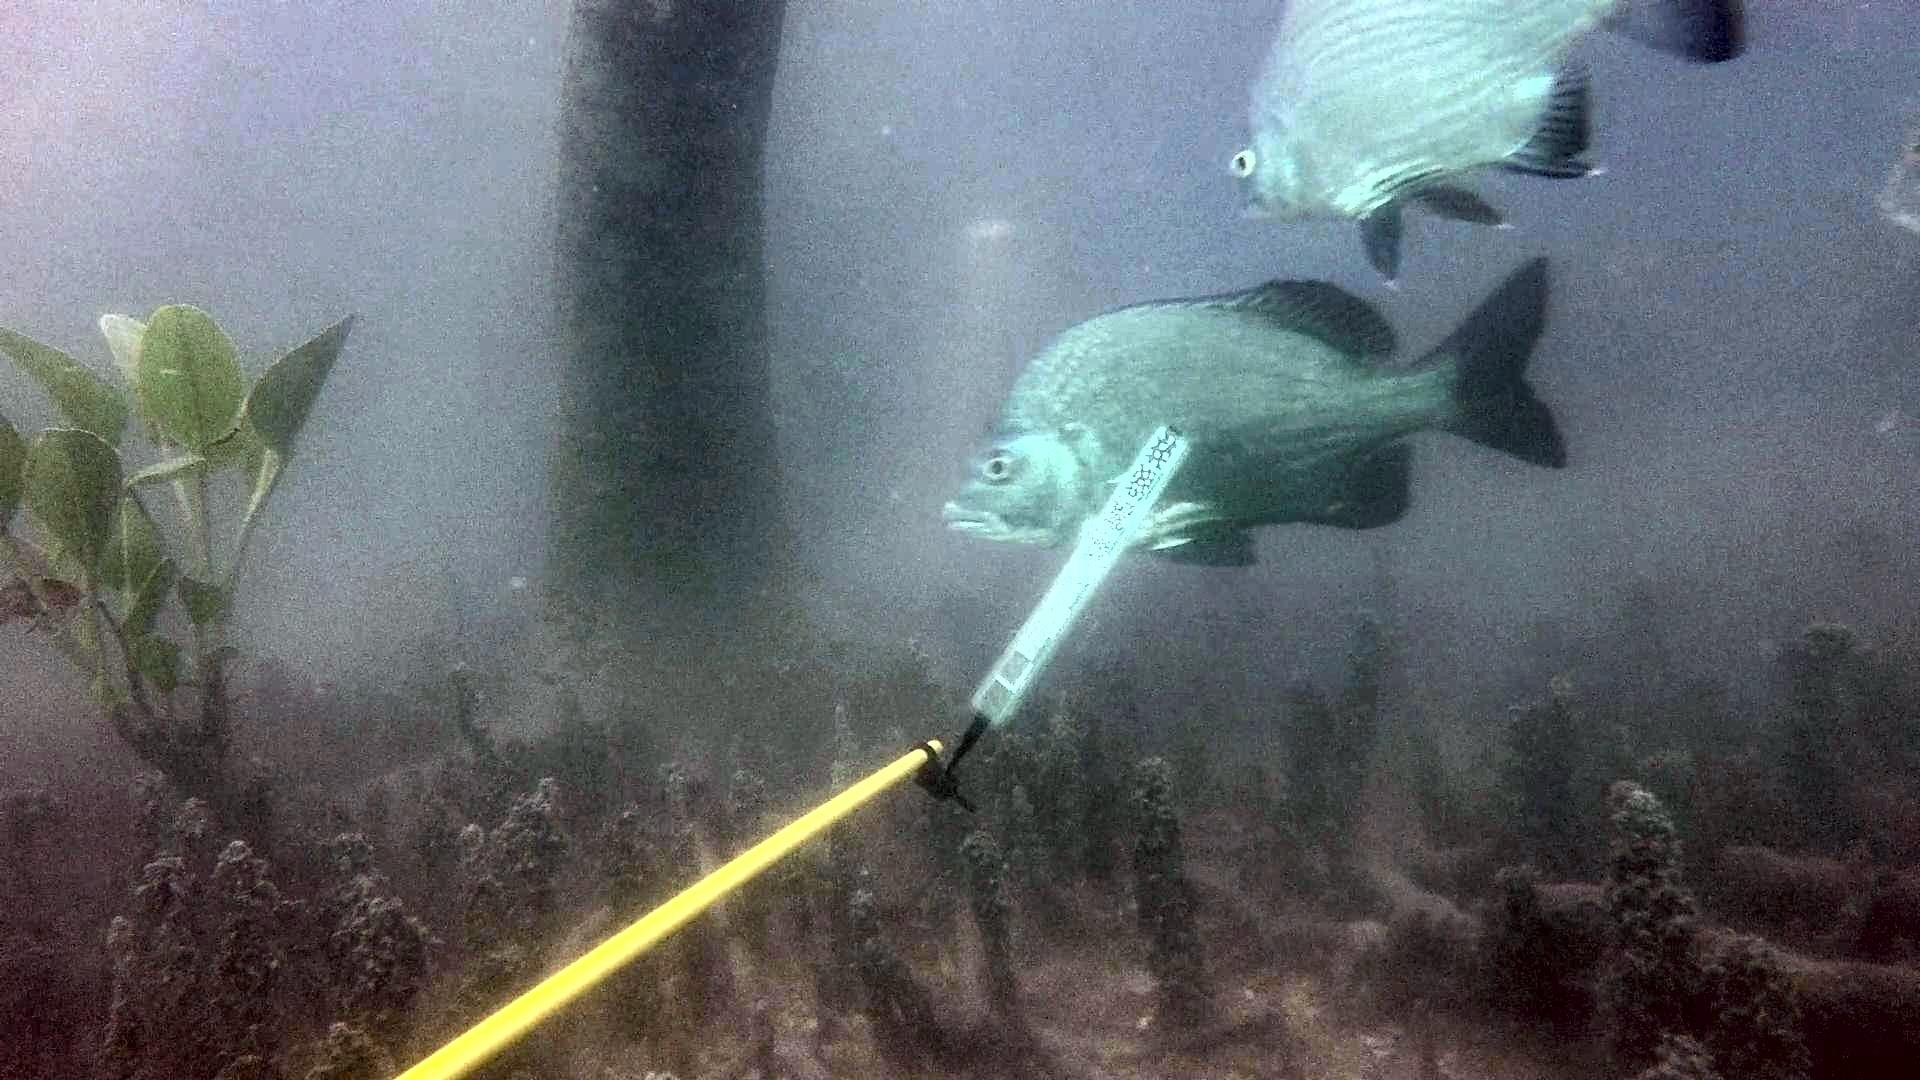acanthopagrus palmaris: (945, 248, 1589, 578), (1228, 0, 1787, 297)
